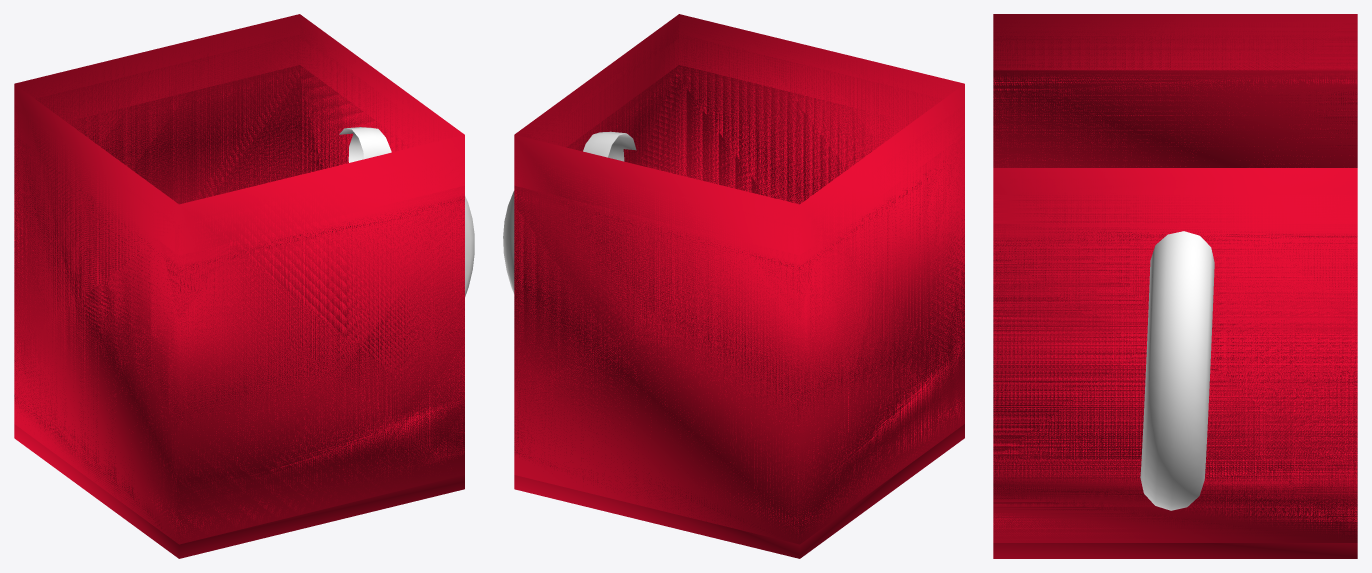
Rendered from Cup.glb.
The picture shows the model from 3 angles, left to right: view 1: azimuth 30°, elevation 25°; view 2: azimuth 150°, elevation 25°; view 3: azimuth 270°, elevation 25°; orthographic projection. The views are drawn at different scales.
Parts seen in each view (by area): view 1: Cube, Torus; view 2: Cube, Torus; view 3: Cube, Torus.
Part boxes in pixels (<box>): Cube: <box>14,14,464,558</box>; Torus: <box>339,127,474,296</box>; Cube: <box>514,14,964,558</box>; Torus: <box>503,131,636,293</box>; Cube: <box>993,14,1357,558</box>; Torus: <box>1140,231,1214,510</box>.
Size of what is drawn, in the model's own units: 2.62 by 2.37 by 2.
